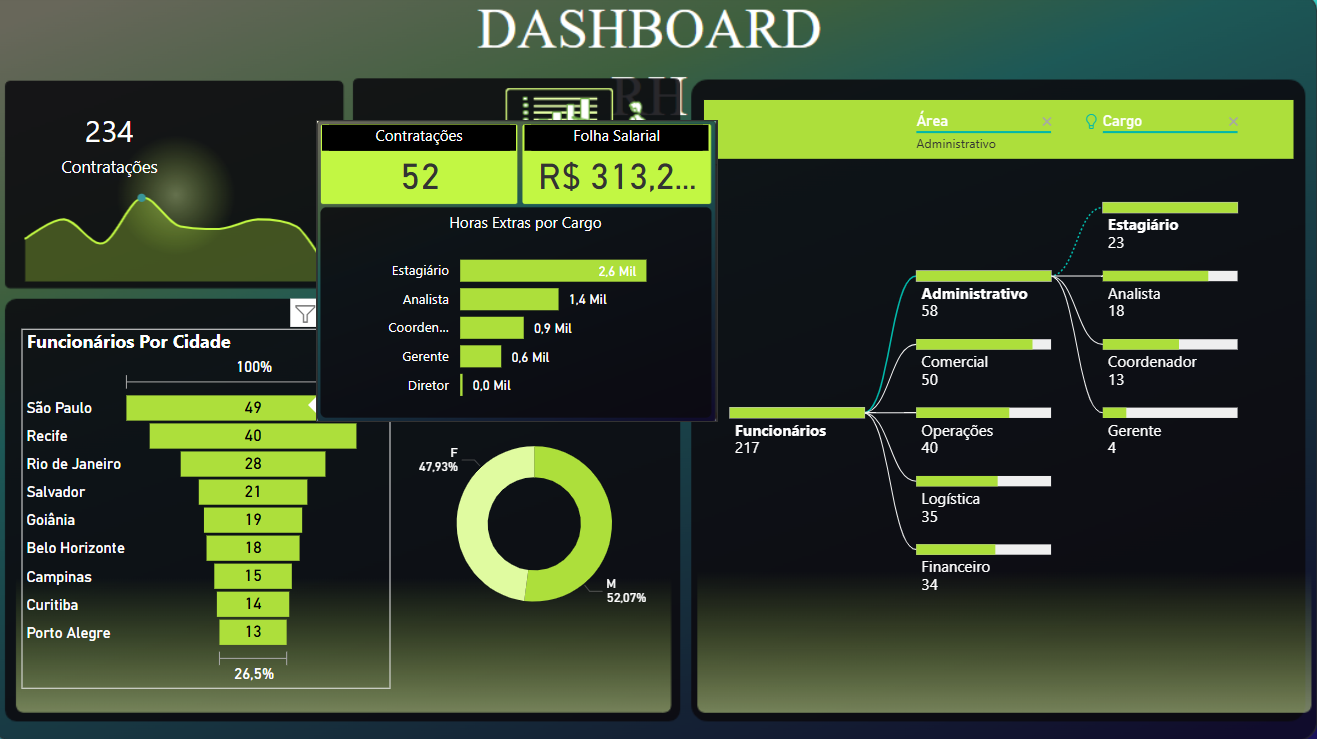

The page's visual inventory and layout, read from the dashboard file:
{"tool":"powerbi","page":{"name":"Página 1","canvas":[1280,720],"ordinal":0},"visuals":[{"type":"card","fields":{"Values":["BaseFuncionarios.Contratações"]},"box":[27,103,170.1,79.6],"z":0},{"type":"PBI_CV_25997FEB_F466_44FA_B562_AC4063283C4C","fields":{"measure":["BaseFuncionarios.Contratações"],"axis":["BaseFuncionarios.Ano da Contratação"]},"box":[12,178,340,109],"z":1000},{"type":"card","fields":{"Values":["BaseFuncionarios.Func. Ativos"]},"box":[343.8,102.5,170.1,79.6],"z":2000},{"type":"card","fields":{"Values":["BaseFuncionarios.Desligamentos"]},"box":[343.8,193,170.1,79.6],"z":3000},{"type":"card","fields":{"Values":["BaseFuncionarios.Turnover"]},"box":[513.9,193,171.3,79.6],"z":4000},{"type":"funnel","title":"Funcionários Por Cidade","fields":{"Y":["BaseFuncionarios.Func. Ativos"],"Category":["BaseFuncionarios.Cidade"]},"box":[26.5,322.1,355.9,347.5],"z":5000},{"type":"donutChart","title":"Funcionários por Gênero","fields":{"Y":["BaseFuncionarios.Func. Ativos"],"Category":["BaseFuncionarios.Genero"]},"box":[384,307,276,386],"z":6000},{"type":"decompositionTreeVisual","fields":{"Analyze":["BaseFuncionarios.Funcionários"],"ExplainBy":["BaseFuncionarios.Área","BaseFuncionarios.Cargo"]},"box":[681,97,579,598],"z":7000}]}

Visuals, with their boxes in screenshot pixels (x1, y1, x2, y2), scaled from the page's 1280x720 canvas onto the 1317x739 screenshot:
card - BaseFuncionarios.Contratações: 28:106:203:187
PBI_CV_25997FEB_F466_44FA_B562_AC4063283C4C - BaseFuncionarios.Contratações x BaseFuncionarios.Ano da Contratação: 12:183:362:295
card - BaseFuncionarios.Func. Ativos: 354:105:529:187
card - BaseFuncionarios.Desligamentos: 354:198:529:280
card - BaseFuncionarios.Turnover: 529:198:705:280
"Funcionários Por Cidade" funnel: 27:331:393:687
"Funcionários por Gênero" donutChart: 395:315:679:711
decompositionTreeVisual - BaseFuncionarios.Funcionários x BaseFuncionarios.Área: 701:100:1296:713
